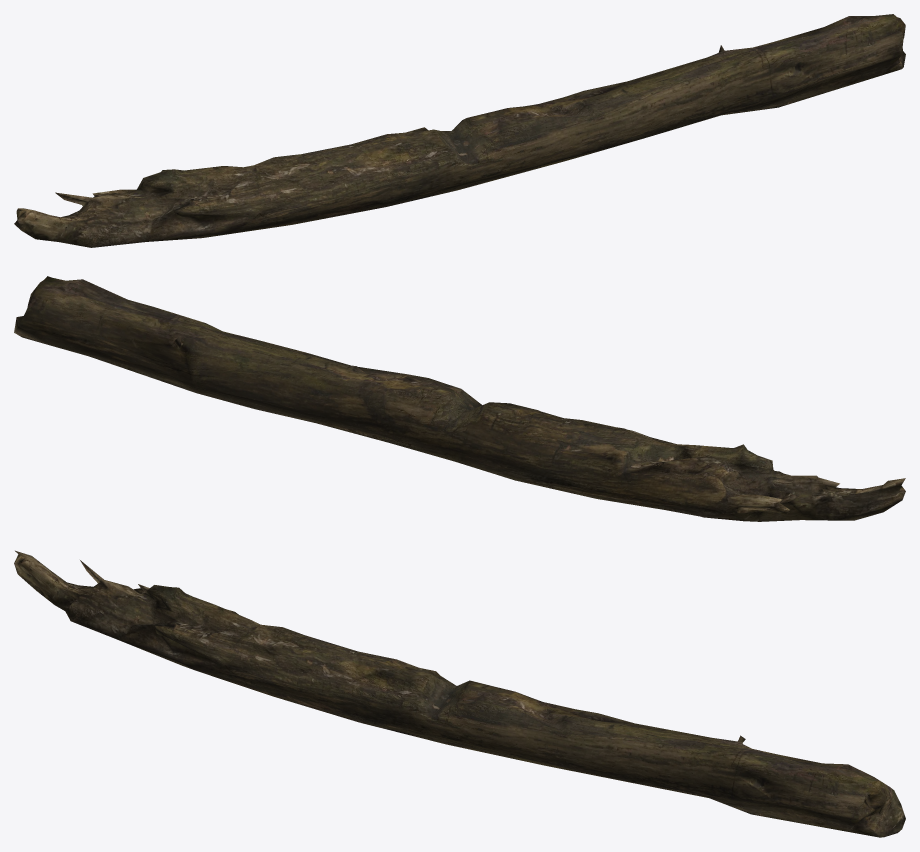
File: dead_tree_trunk.glb
3 views of the same model, one above another, from view 1: azimuth 30°, elevation 25°; view 2: azimuth 150°, elevation 25°; view 3: azimuth 330°, elevation 25° (orthographic).
Visible parts, largest first — view 1: dead_tree_trunk; view 2: dead_tree_trunk; view 3: dead_tree_trunk.
Boxes of the visible parts, box(x1,y1,x2,y2) form: dead_tree_trunk: box(14, 14, 905, 247); dead_tree_trunk: box(14, 276, 905, 521); dead_tree_trunk: box(14, 550, 905, 837).
Bounding box in the file's own units: 3.04 × 0.2847 × 0.2717.
1 material, 1 textured.
